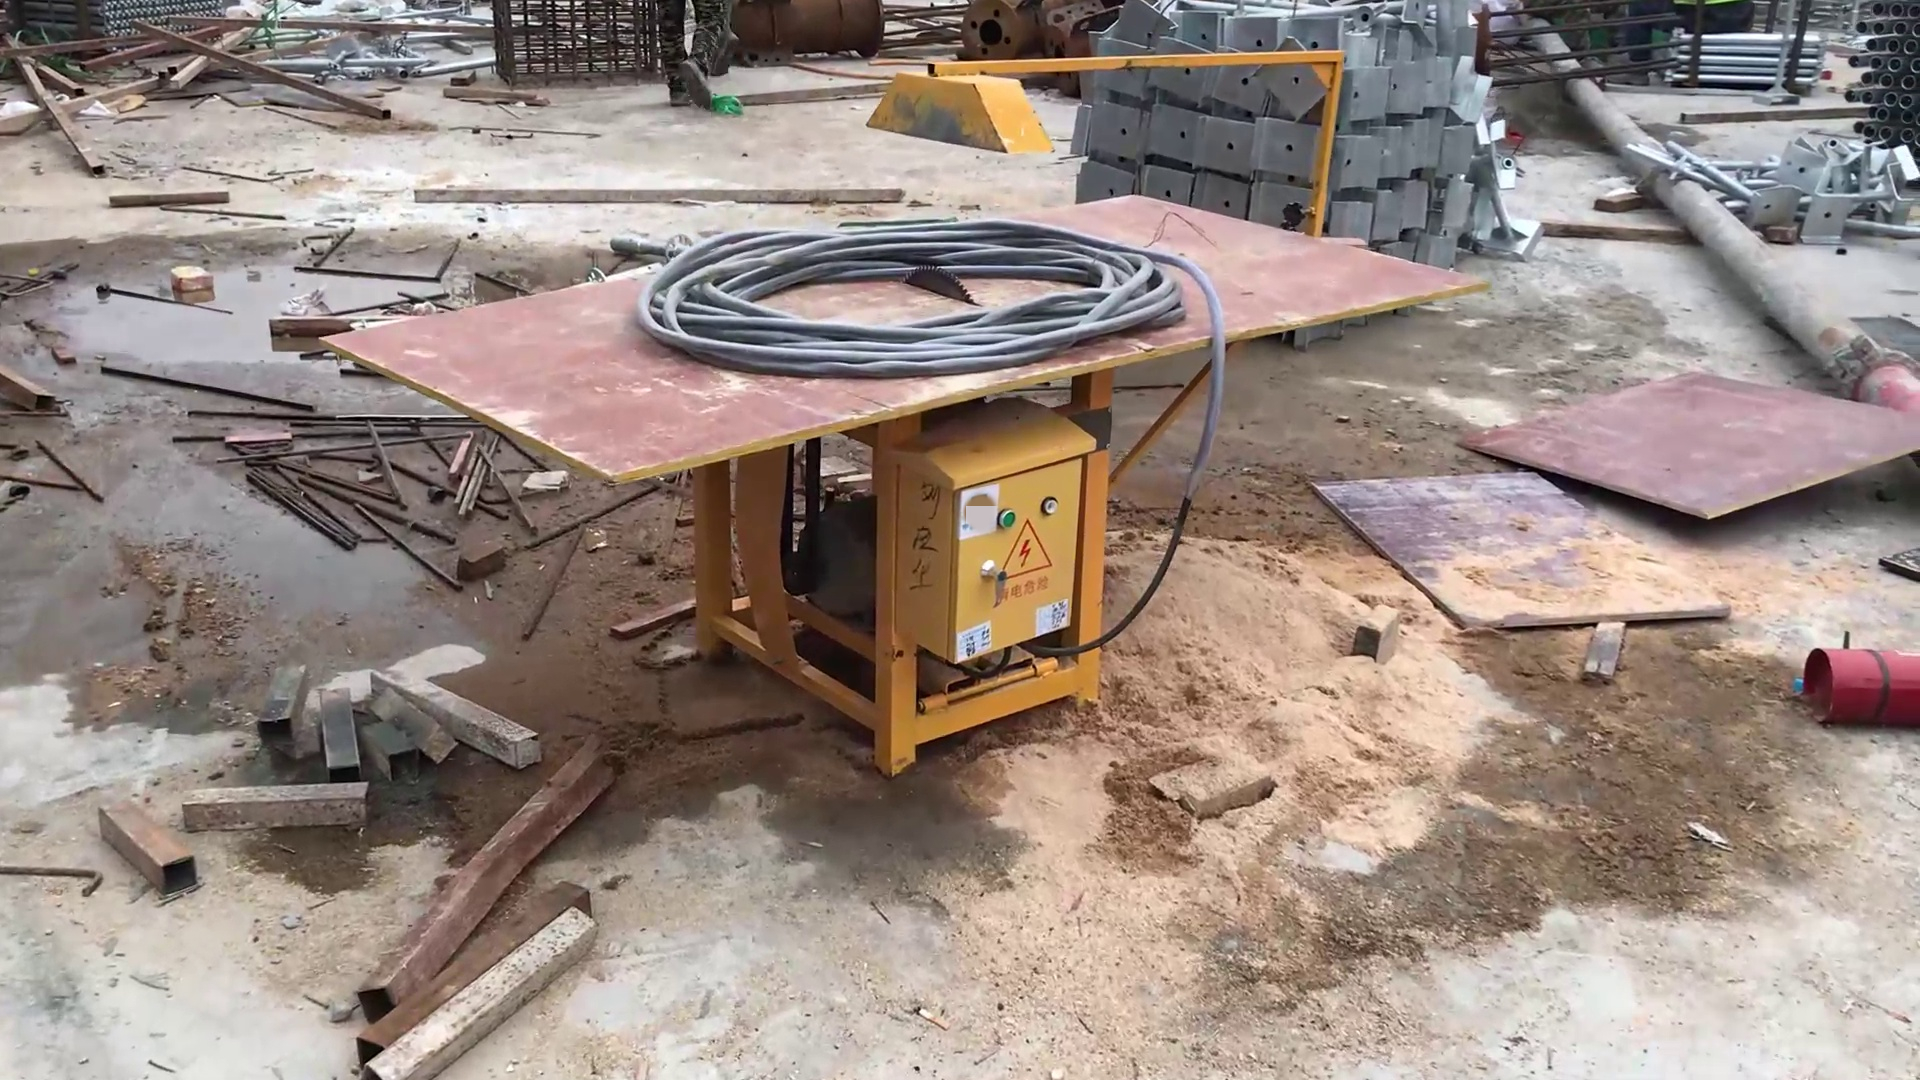board: (1456, 342, 1920, 564), (1298, 455, 1745, 673)
cutter: (363, 182, 1505, 765)
ebox: (899, 418, 1096, 673)
scaffold: (1054, 4, 1518, 265)
